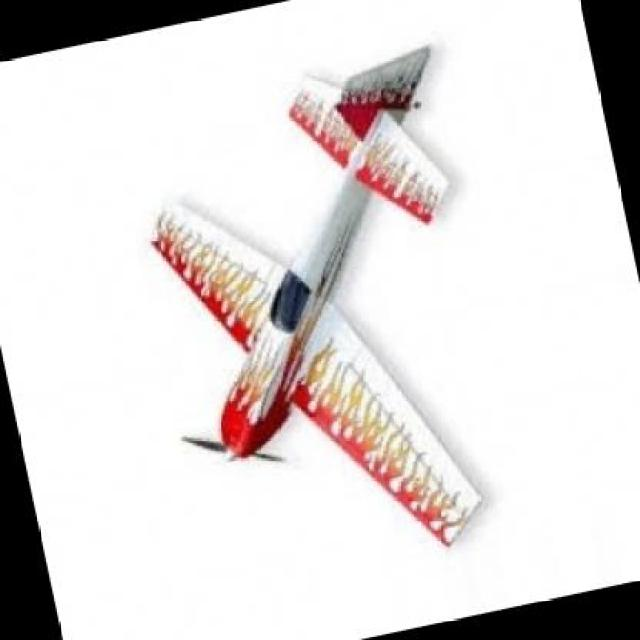iha: (125, 31, 503, 563)
